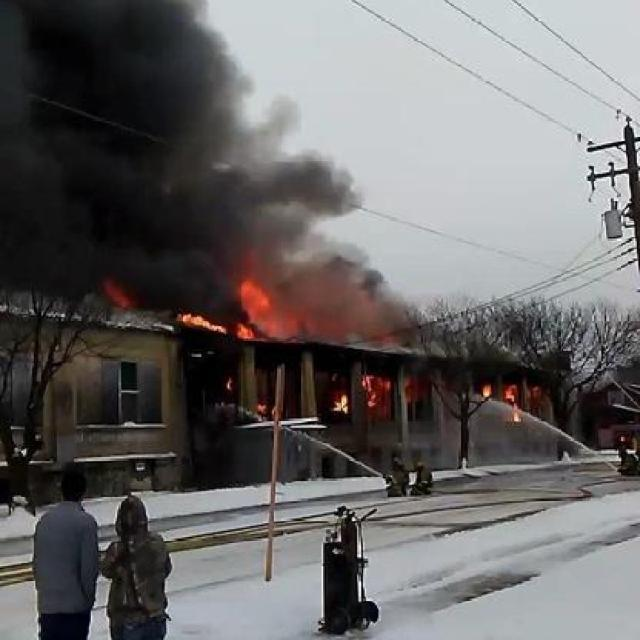Fire: (232, 268, 394, 342), (364, 370, 394, 420), (176, 310, 220, 336), (100, 271, 128, 307), (508, 386, 524, 420), (334, 393, 348, 412), (222, 378, 236, 393), (259, 402, 269, 414), (482, 382, 492, 394), (532, 388, 540, 400)
Smoke: (1, 3, 354, 264)
